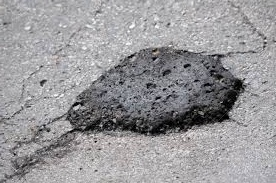pothole: (67, 46, 244, 138)
